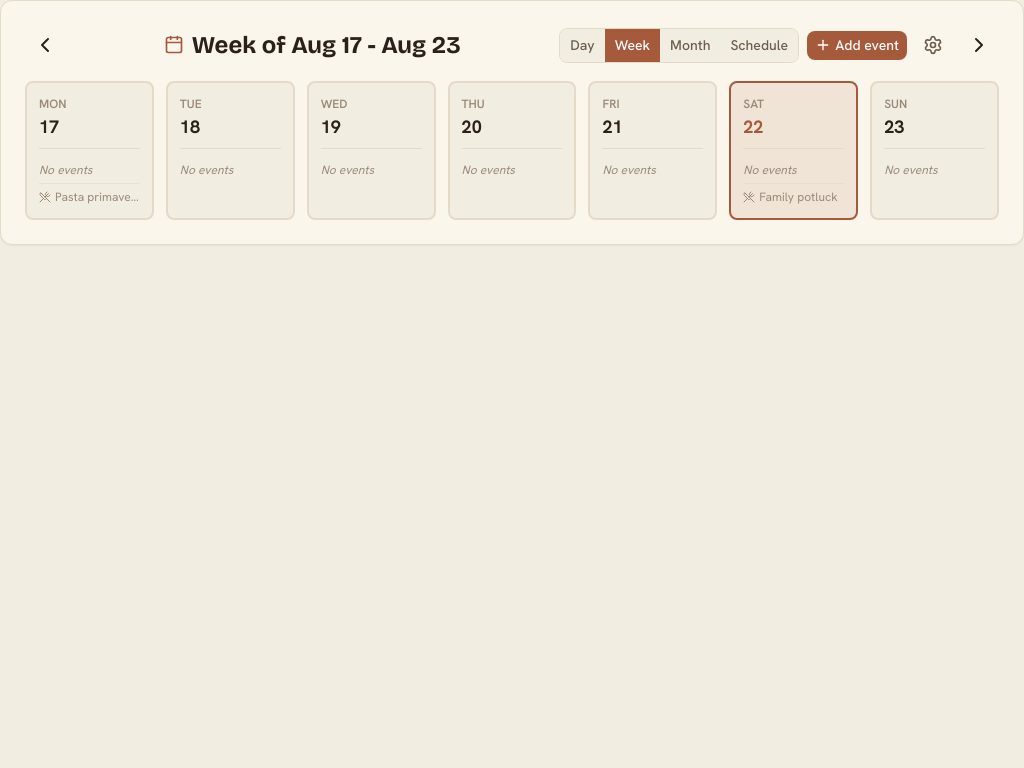
Test: WeekCalendar — interactions › event management › shows "Add event" to a parent and opens the create form
Click the button "Add event".
click(857, 45)  # box x1=807 y1=30 x2=907 y2=60
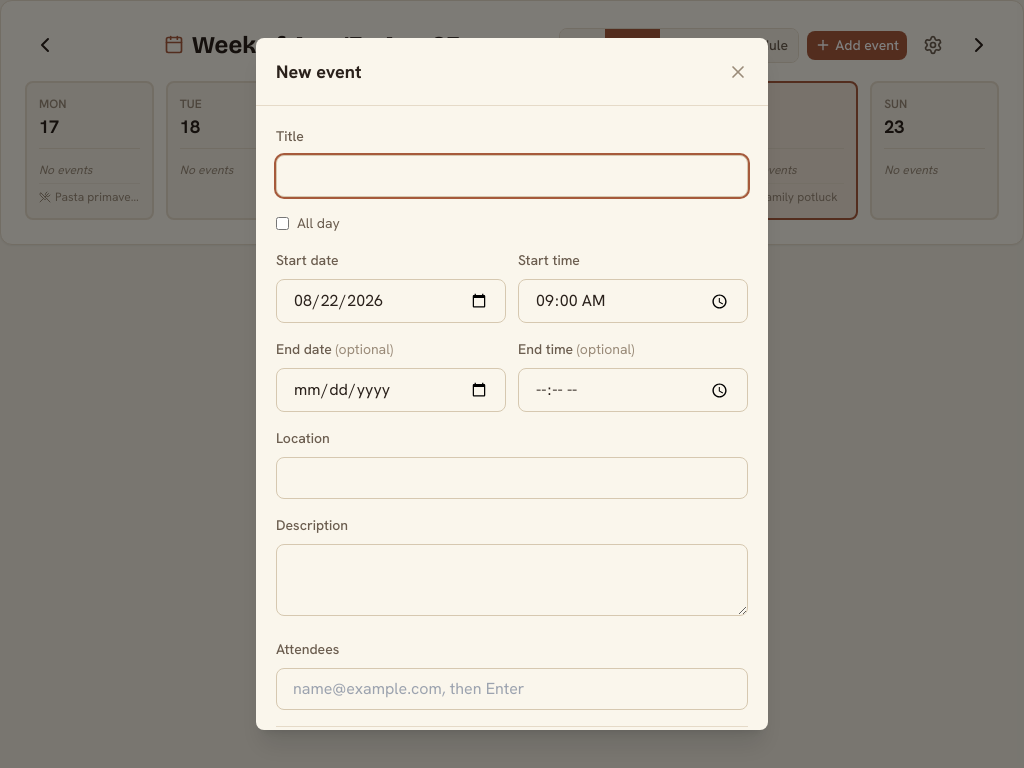
Expected: the heading "New event" is shown, x1=276 y1=58 x2=362 y2=85
